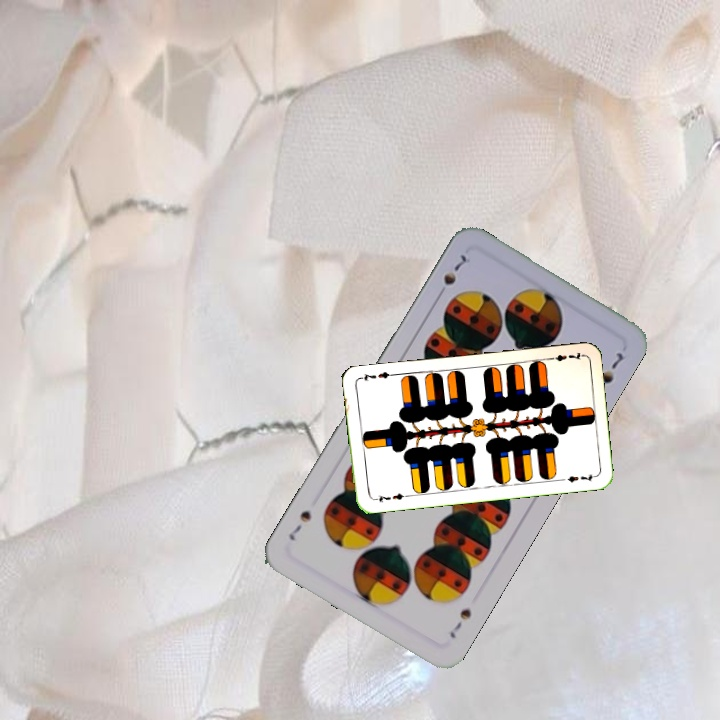E7: (369, 489, 410, 505), (544, 348, 585, 364)
S7: (433, 250, 470, 301), (445, 604, 474, 641)
